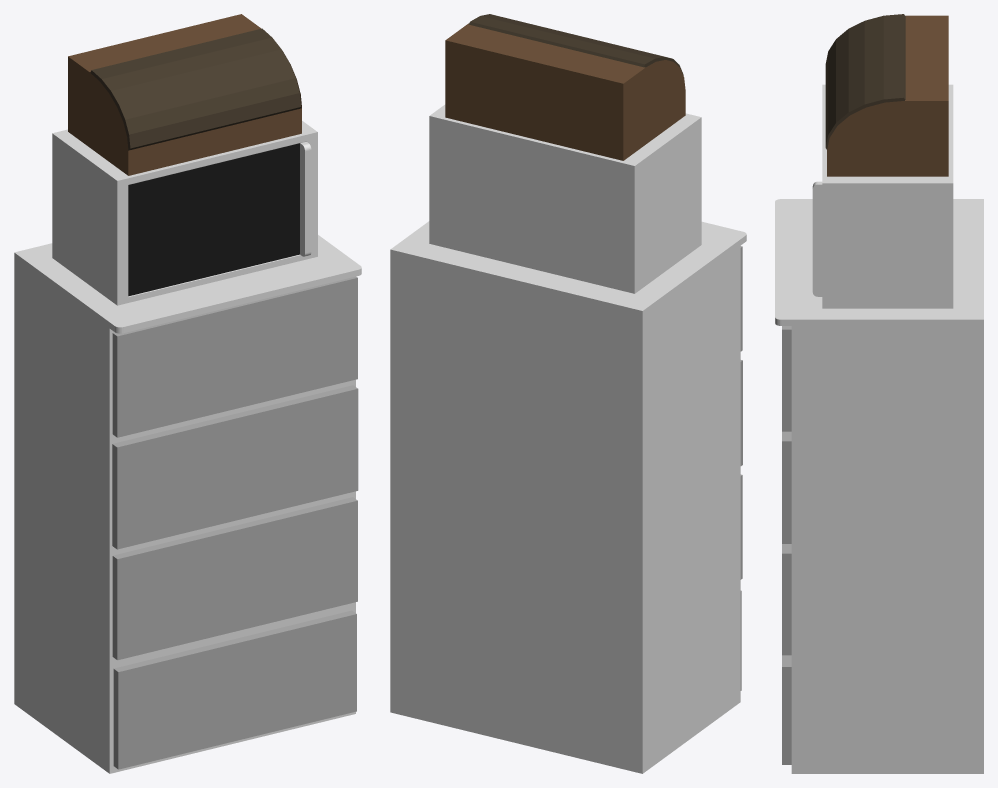
Rendered from cabinetwithmicrowave.fbx.
3 renders of one model, left to right at view 1: azimuth 30°, elevation 25°; view 2: azimuth 150°, elevation 25°; view 3: azimuth 270°, elevation 25°, orthographic. The views are drawn at different scales.
Visible parts, largest first — view 1: Cube.001, Cabinet, Microwave, Cube.002, Panaro; view 2: Cabinet, Microwave, Panaro, Cube.002, Cube.001; view 3: Cabinet, Microwave, Panaro, Cube.002, Cube.001.
Boxes of the visible parts, bbox=[...] form: Cube.001: bbox=[112, 276, 358, 769]; Cabinet: bbox=[14, 235, 361, 773]; Microwave: bbox=[52, 121, 317, 305]; Cube.002: bbox=[90, 28, 300, 150]; Panaro: bbox=[68, 14, 301, 175]; Cabinet: bbox=[390, 221, 746, 773]; Microwave: bbox=[429, 104, 701, 293]; Panaro: bbox=[445, 23, 685, 160]; Cube.002: bbox=[469, 14, 683, 75]; Cube.001: bbox=[740, 246, 742, 690]; Cabinet: bbox=[775, 199, 983, 773]; Microwave: bbox=[812, 84, 953, 308]; Panaro: bbox=[827, 15, 948, 176]; Cube.002: bbox=[825, 14, 905, 149]; Cube.001: bbox=[782, 326, 791, 764].
Size of the model in its own units: 200 by 508 by 146.
